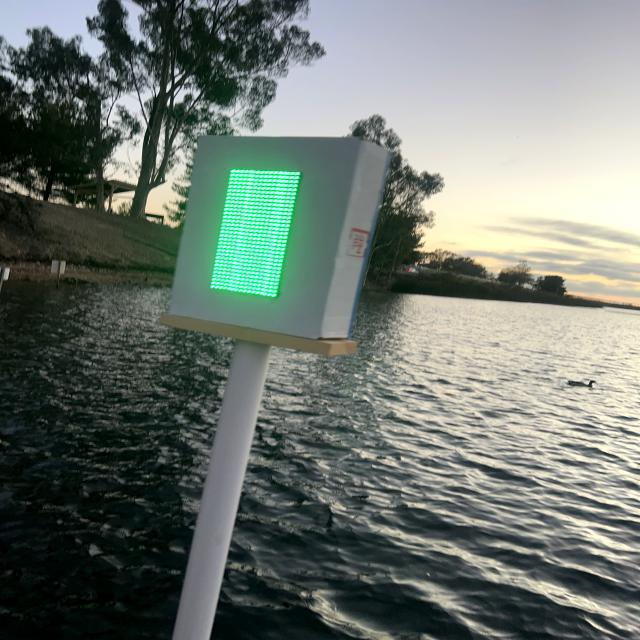led: (198, 154, 322, 311)
